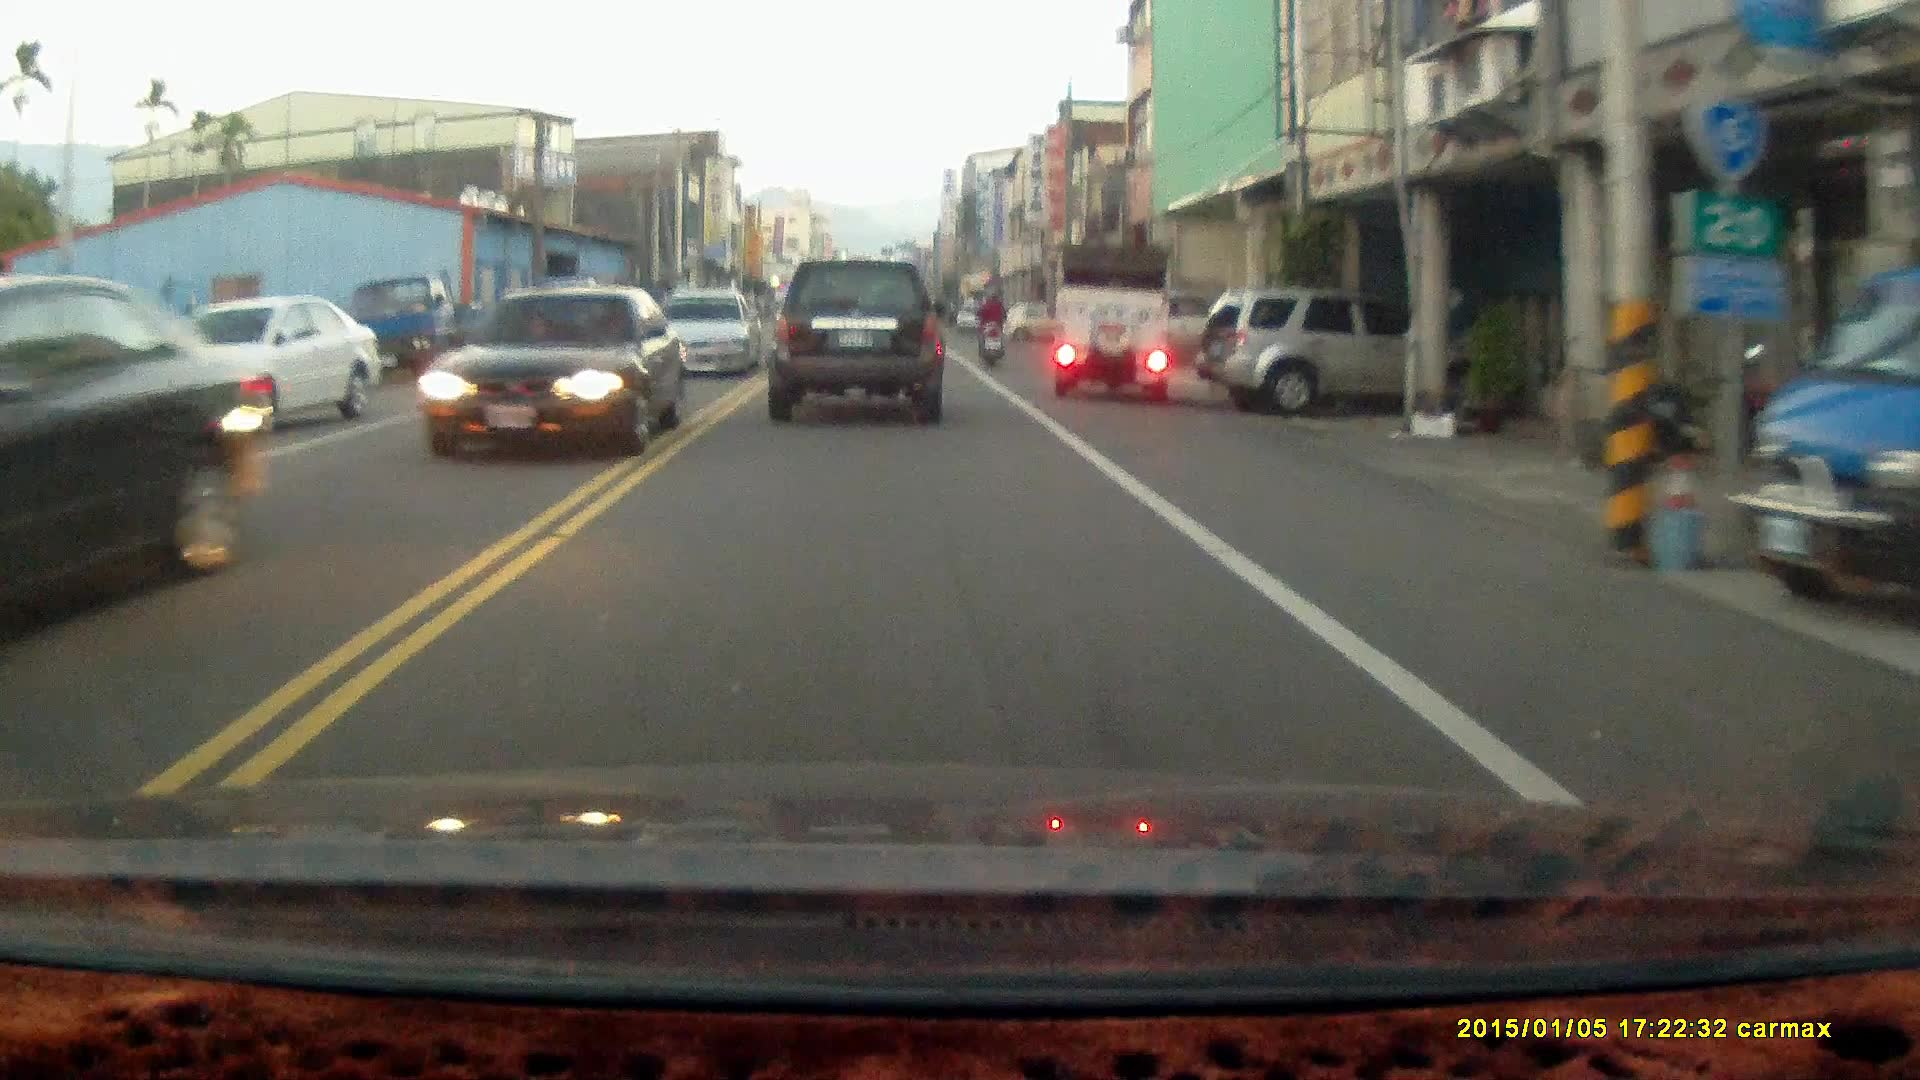rider: (972, 282, 1010, 368)
vehicle: (1, 277, 269, 656), (1730, 207, 1920, 624), (419, 283, 682, 464), (112, 297, 389, 459), (767, 261, 948, 427), (1204, 287, 1426, 417), (1052, 242, 1174, 398), (656, 289, 761, 379)
